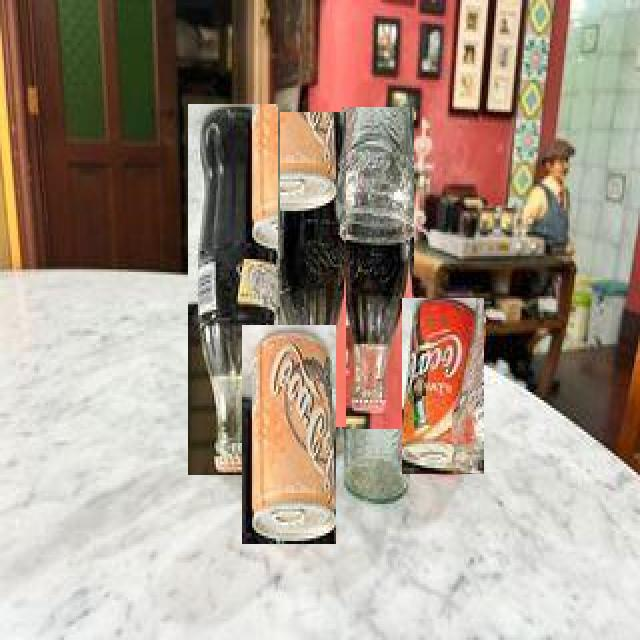coca-cola: (188, 104, 278, 475), (342, 107, 414, 429), (280, 112, 346, 427), (242, 325, 336, 544), (402, 298, 484, 474)
